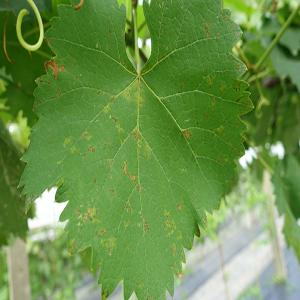Folha: (16, 0, 254, 300)
Fungo: (120, 158, 138, 184), (44, 58, 64, 80), (82, 206, 97, 223), (203, 20, 210, 38), (205, 74, 213, 88), (74, 0, 84, 10), (170, 242, 177, 256), (125, 202, 133, 214), (142, 217, 148, 231), (176, 201, 183, 212), (184, 129, 192, 138), (87, 144, 95, 152), (108, 188, 114, 196), (202, 112, 208, 118)
